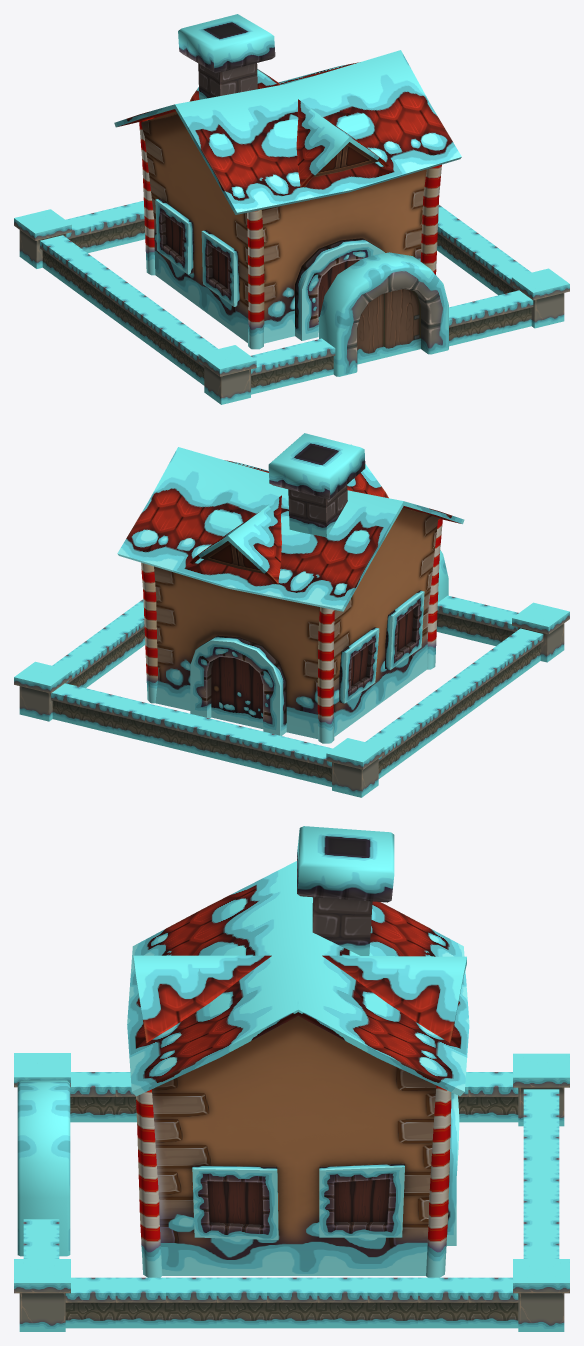
File: House2.FBX
The picture shows the model from 3 angles, top to bottom: view 1: azimuth 30°, elevation 25°; view 2: azimuth 150°, elevation 25°; view 3: azimuth 270°, elevation 25°; orthographic projection. The views are drawn at different scales.
Parts seen in each view (by area): view 1: House2, Object320; view 2: House2, Object320; view 3: House2, Object320.
Part boxes in pixels (x1=…): House2: x1=114, y1=14, x2=461, y2=349; Object320: x1=14, y1=200, x2=569, y2=404; House2: x1=117, y1=433, x2=464, y2=743; Object320: x1=14, y1=550, x2=569, y2=797; House2: x1=127, y1=826, x2=469, y2=1277; Object320: x1=14, y1=1053, x2=569, y2=1331.
Bounding box in the file's own units: 268 × 188 × 274.
2 materials, 2 textured.
